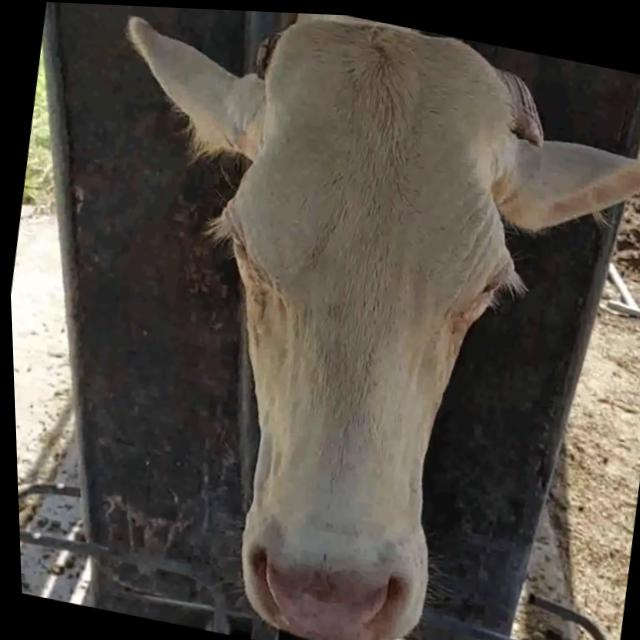cowFace: (160, 6, 548, 640)
